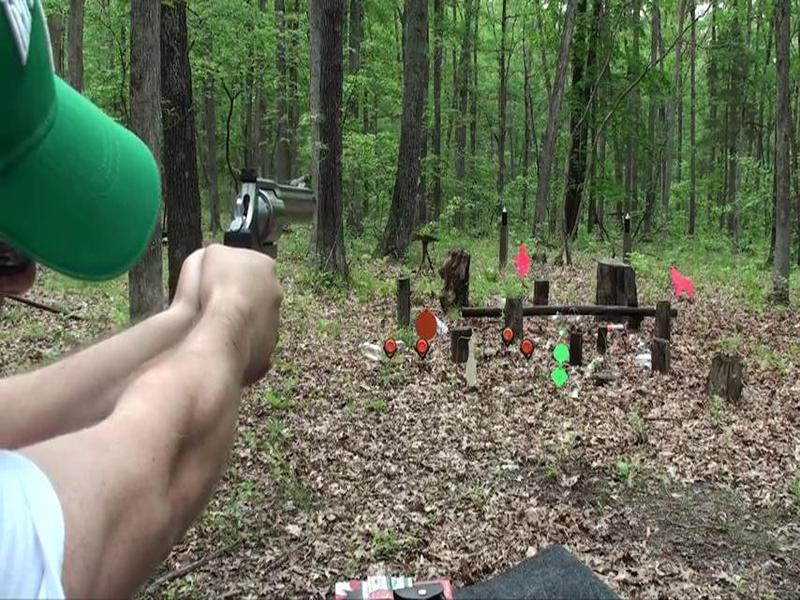Revolver: (193, 141, 337, 349)
